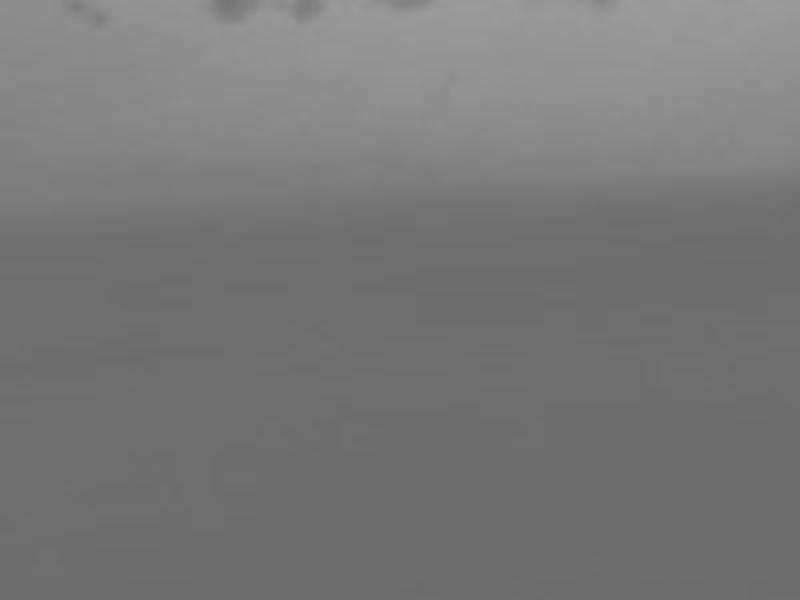defect: (278, 1, 326, 25), (210, 1, 260, 22), (63, 1, 86, 15), (93, 16, 114, 31)
